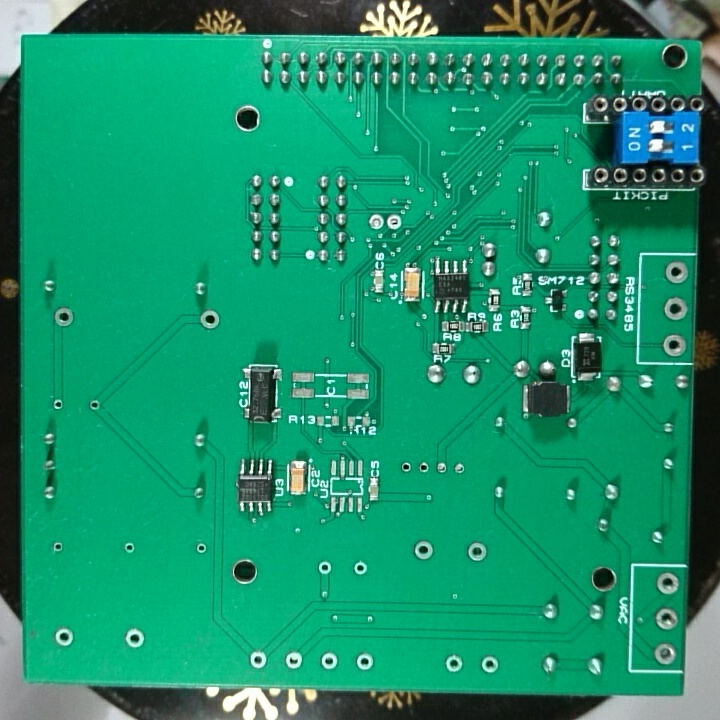F: (662, 258, 692, 289), (662, 294, 691, 323), (661, 331, 688, 360), (653, 605, 679, 634), (651, 641, 678, 668), (654, 570, 682, 596), (196, 307, 222, 334), (122, 626, 148, 652), (411, 538, 435, 564), (52, 304, 76, 330), (465, 540, 491, 563), (52, 625, 76, 649), (442, 653, 465, 677), (283, 649, 305, 673), (479, 653, 502, 675), (248, 648, 268, 672), (353, 651, 375, 672), (365, 211, 385, 232), (385, 210, 403, 233), (319, 650, 337, 672), (351, 558, 369, 579), (315, 558, 333, 577), (49, 395, 67, 413), (417, 458, 432, 478), (451, 459, 466, 478), (434, 459, 449, 478), (121, 540, 138, 556), (86, 397, 101, 415), (193, 539, 208, 556), (398, 458, 413, 475), (51, 540, 68, 554)
